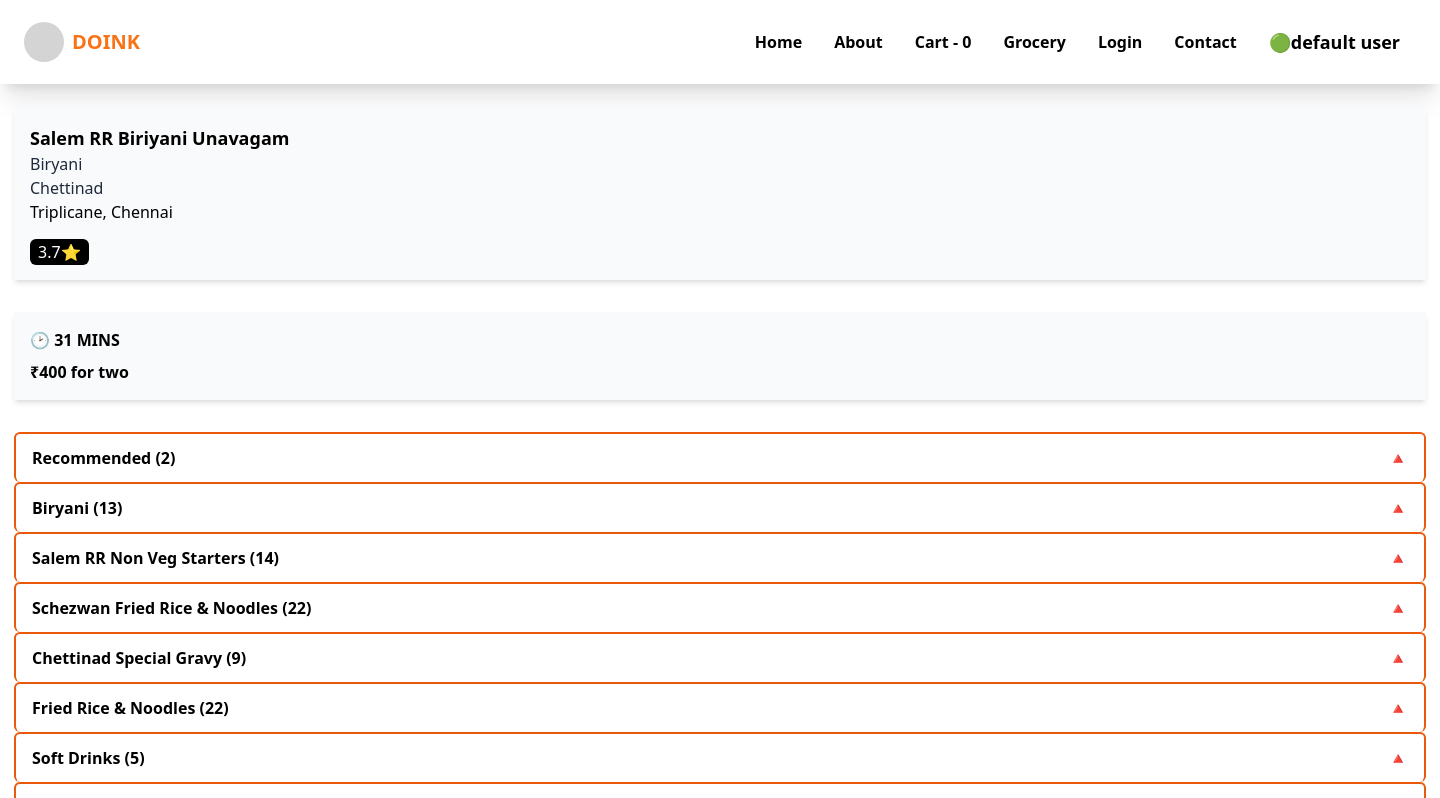
Test: test the cart flow › should display cart items as one in header aftr clicking first biryani item
Click the element with test id "accHeader" showing "Biryani (13) 🔺" at (720, 507), box [14, 482, 1426, 532]
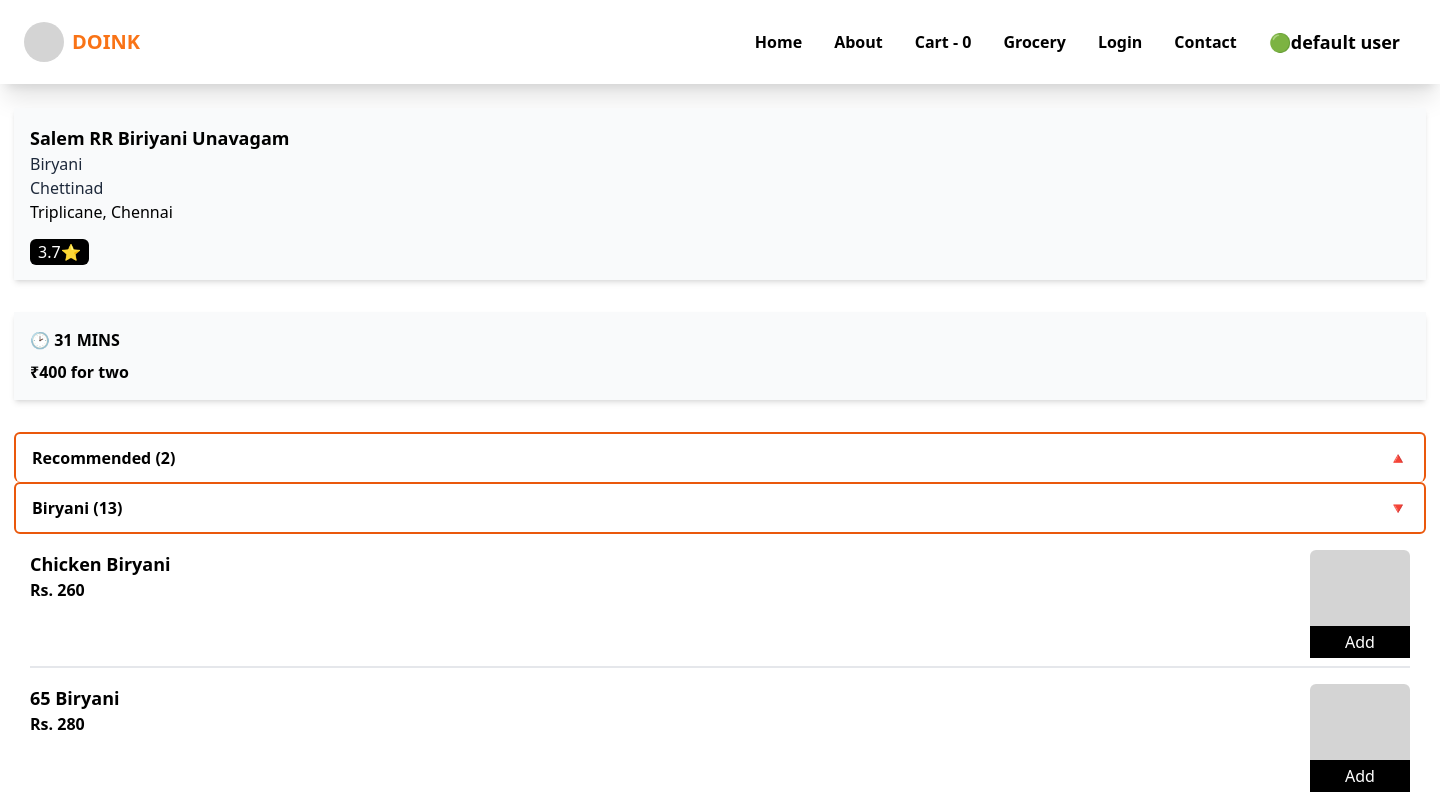
Click the 1st button with test id "addItem" at (1360, 642), box [1341, 630, 1379, 654]
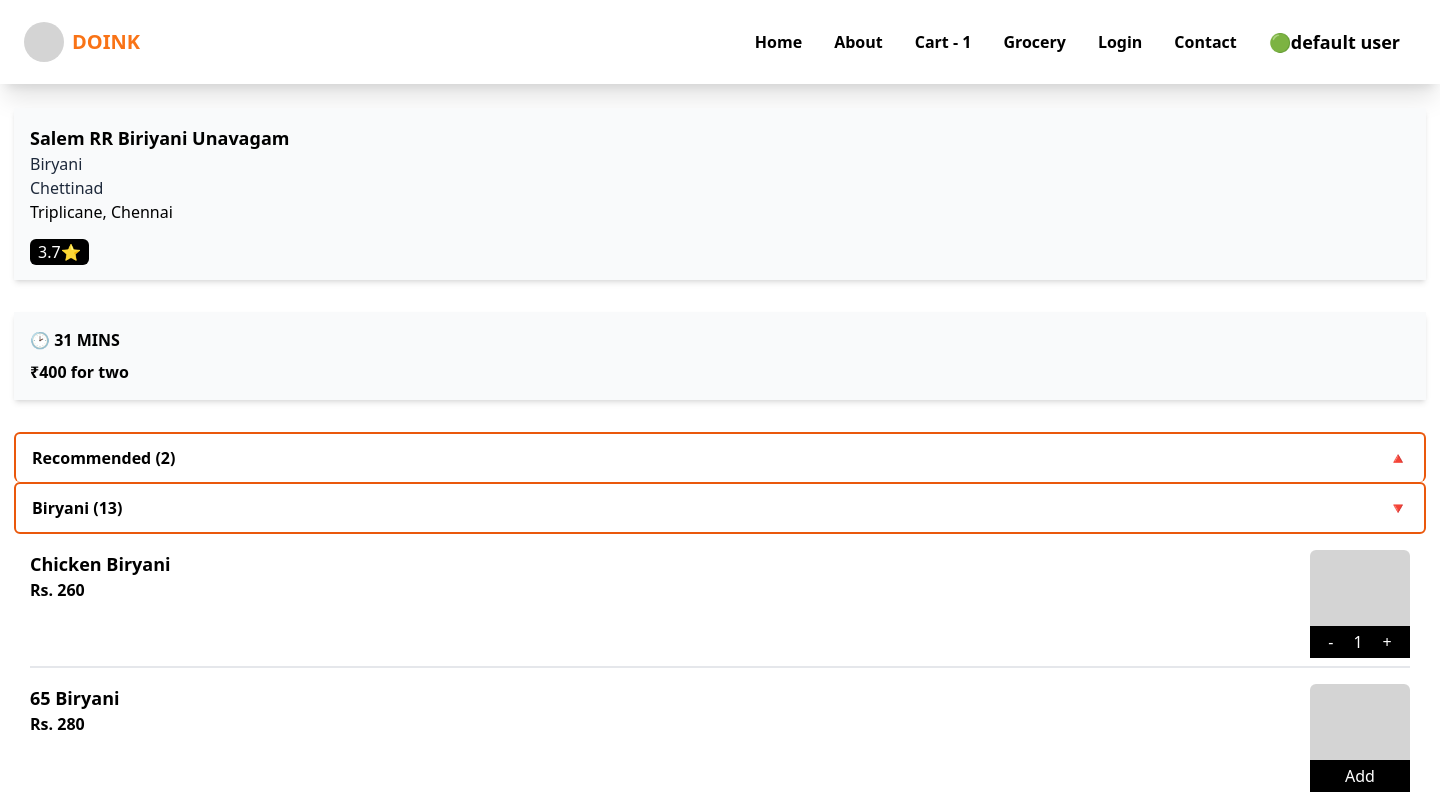
Result: the link "Cart - 1" is shown at [915, 31, 971, 53]
